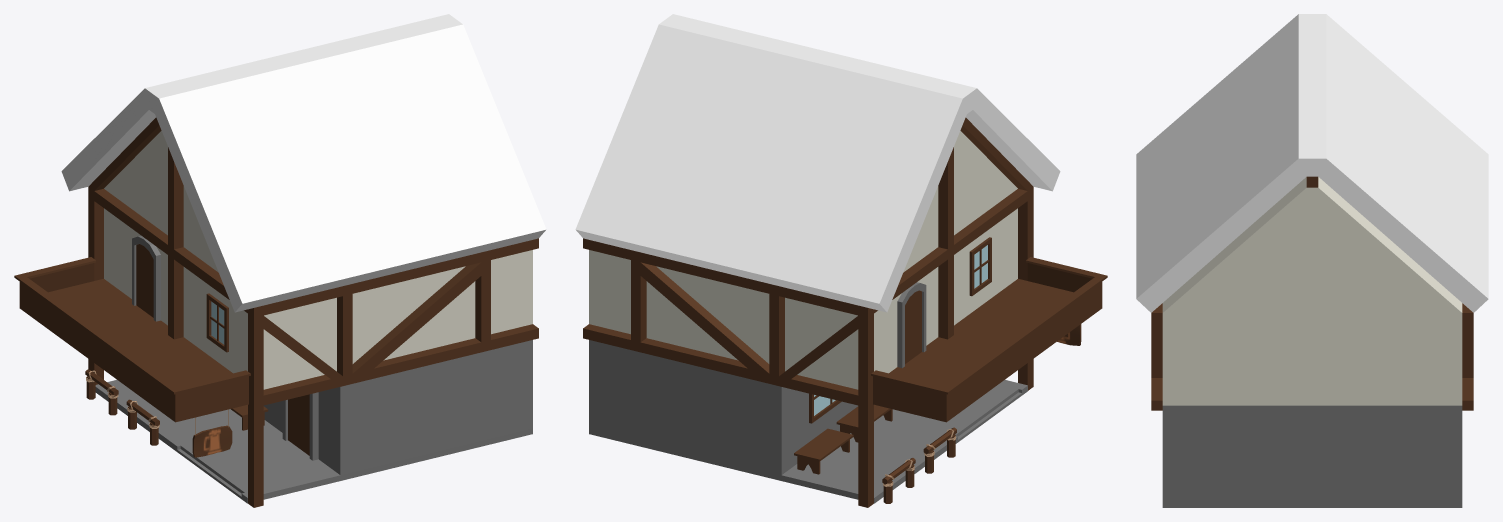
File: Inn Cap.fbx
3 views of the same model, side by side, from view 1: azimuth 30°, elevation 25°; view 2: azimuth 150°, elevation 25°; view 3: azimuth 270°, elevation 25° (orthographic). The views are drawn at different scales.
Visible parts, largest first — view 1: Inn Cap; view 2: Inn Cap; view 3: Inn Cap.
Part boxes in pixels (bbox=[...]): Inn Cap: bbox=[14, 14, 546, 507]; Inn Cap: bbox=[575, 14, 1107, 507]; Inn Cap: bbox=[1136, 14, 1488, 507].
Size of the model in its own units: 0.9463 by 0.8978 by 0.8196.
